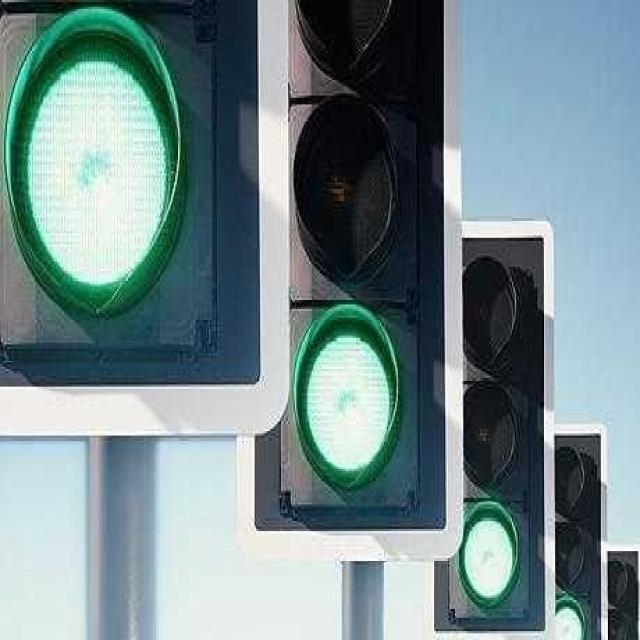Traffic Light -Green-: (0, 0, 199, 327), (282, 0, 411, 498), (449, 231, 532, 626), (554, 426, 597, 640), (608, 551, 639, 640)
